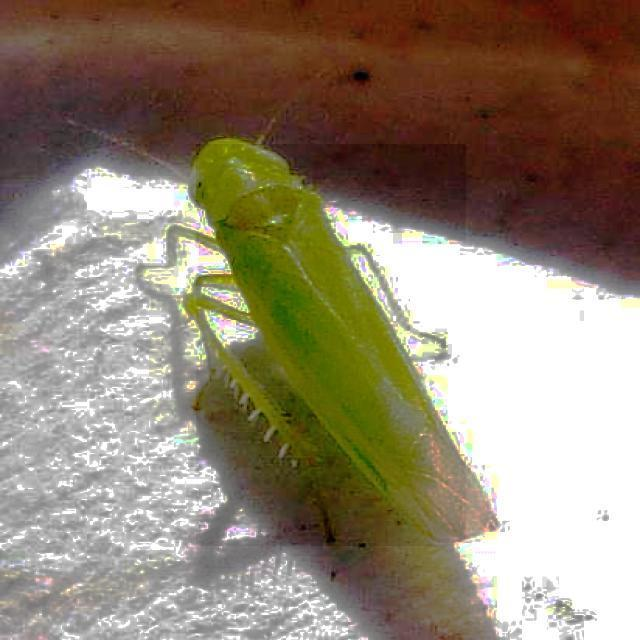green-leafhopper: (196, 144, 466, 546)
